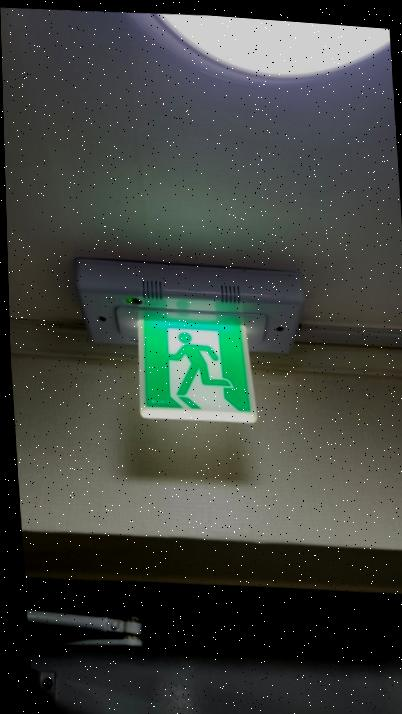emergency_exit: (136, 309, 258, 424)
